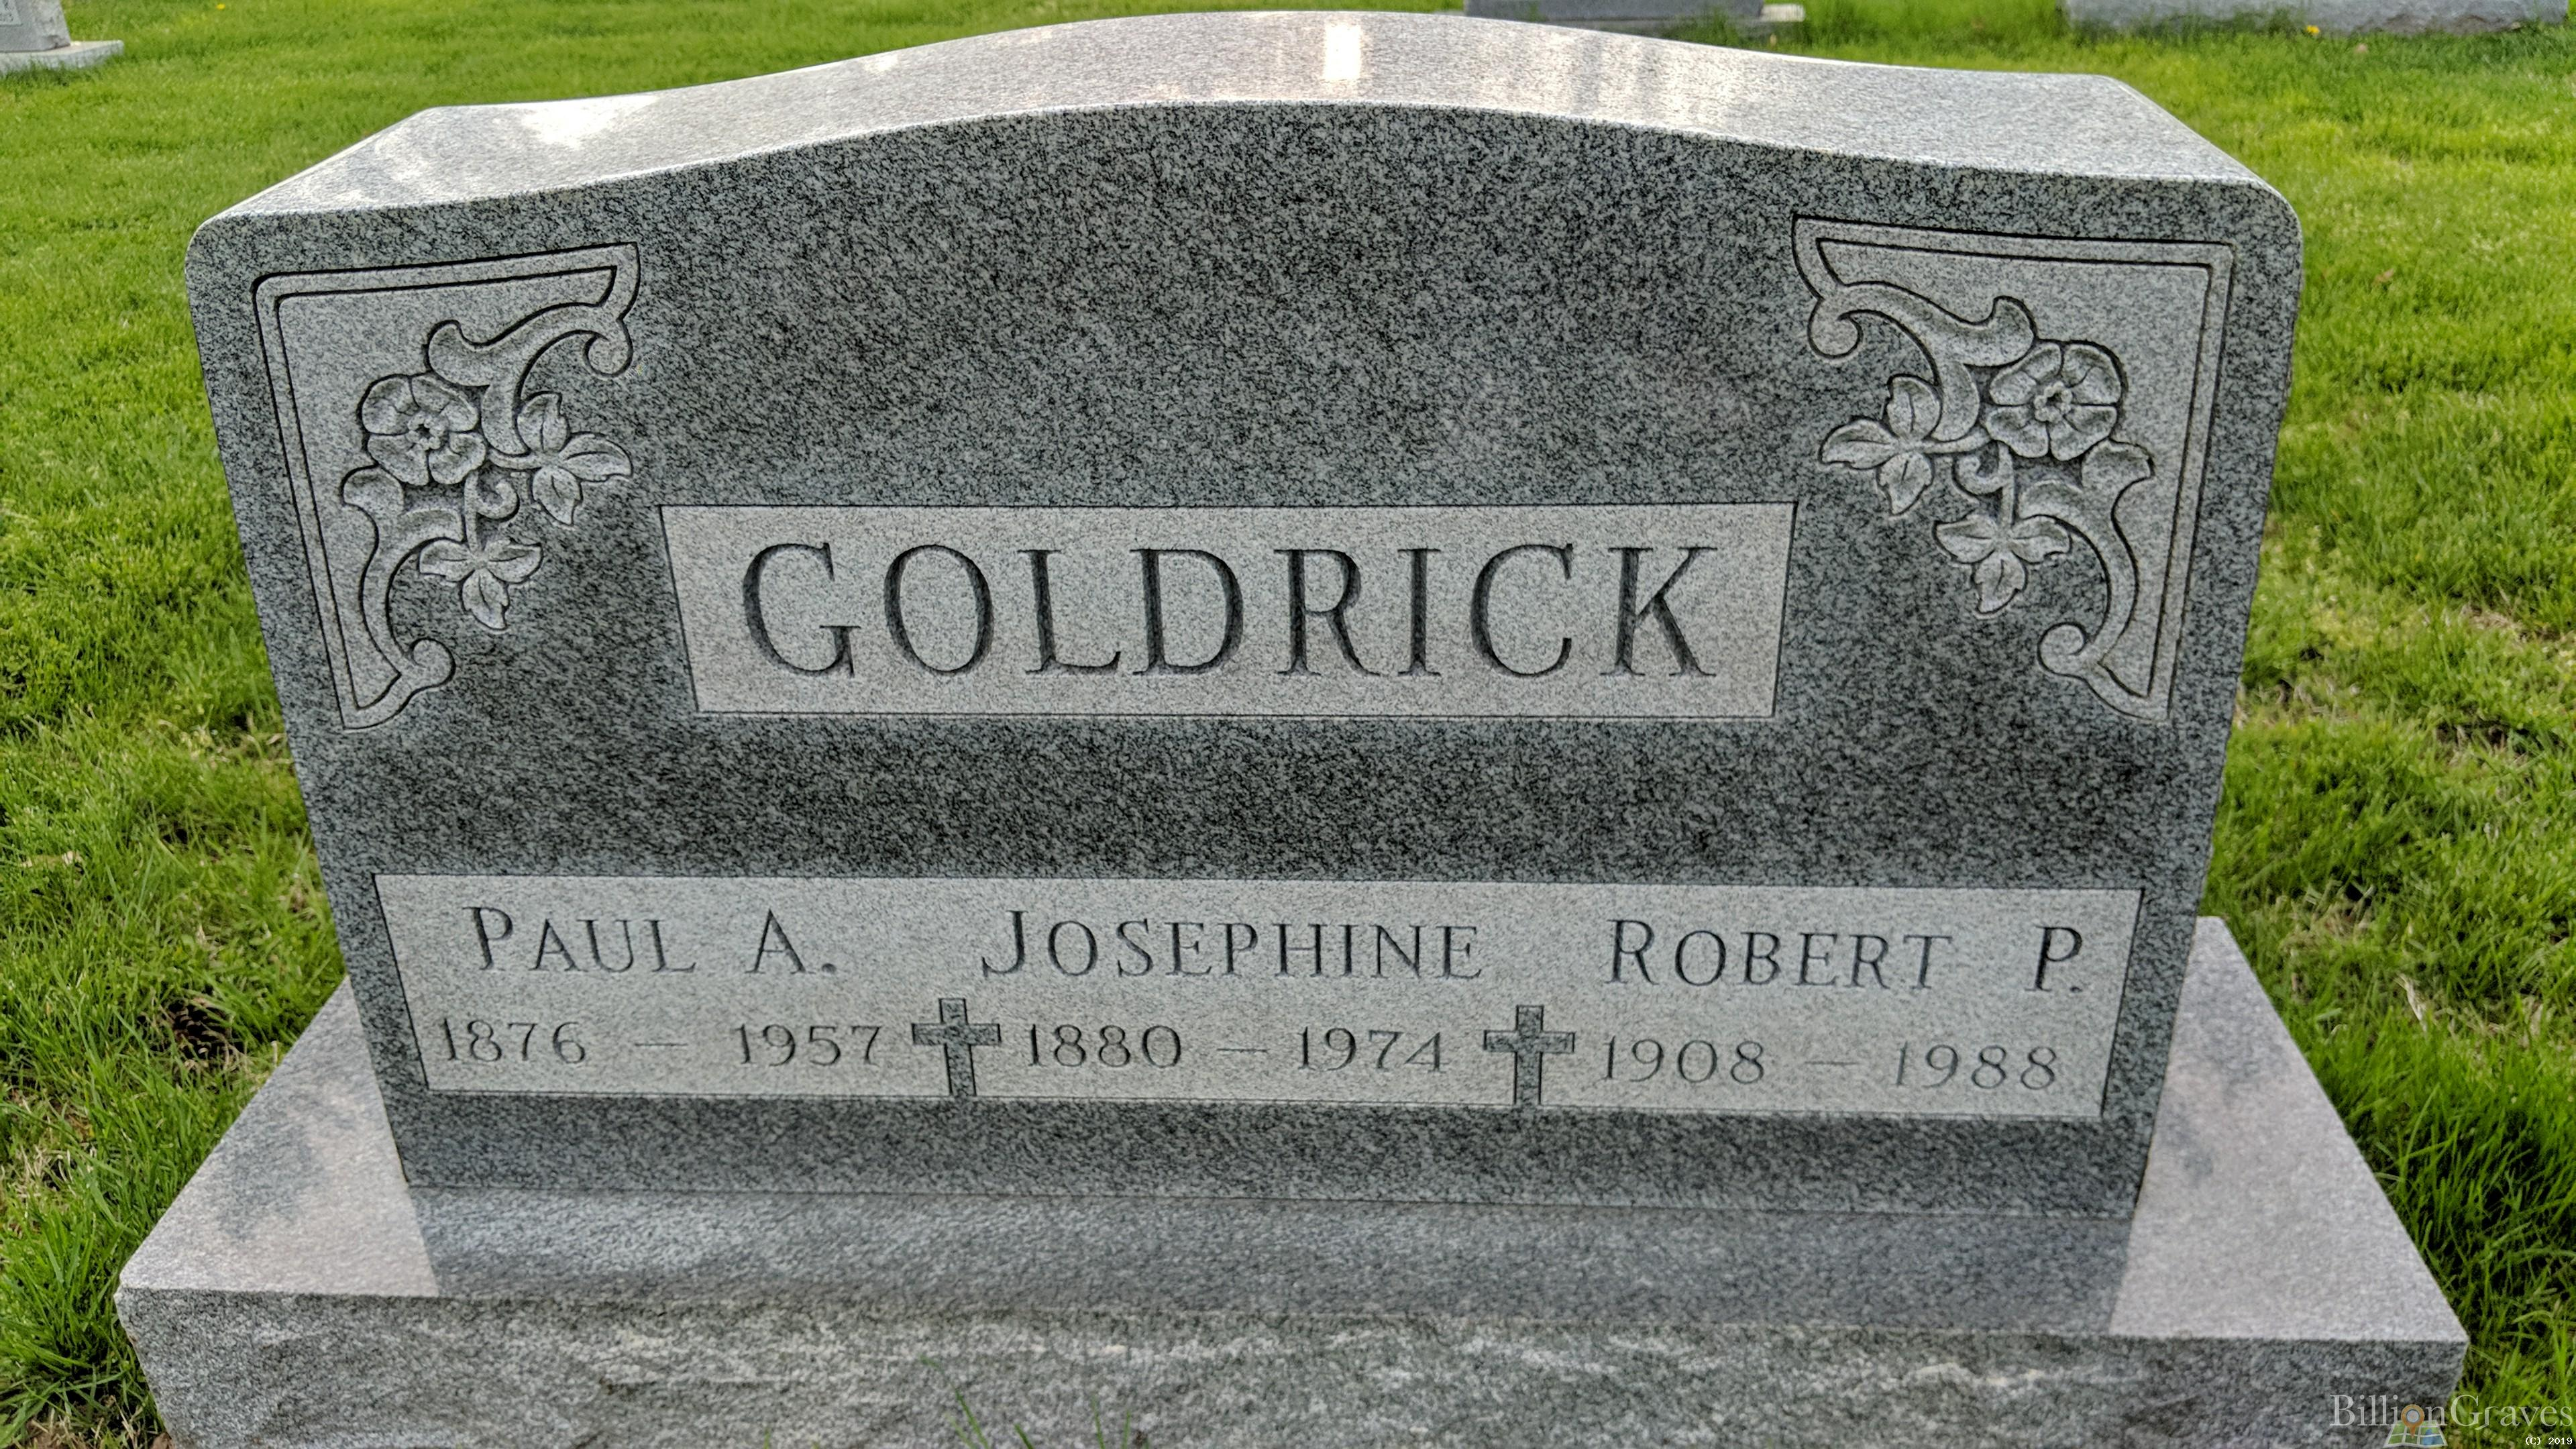upright: (104, 4, 2470, 1433)
